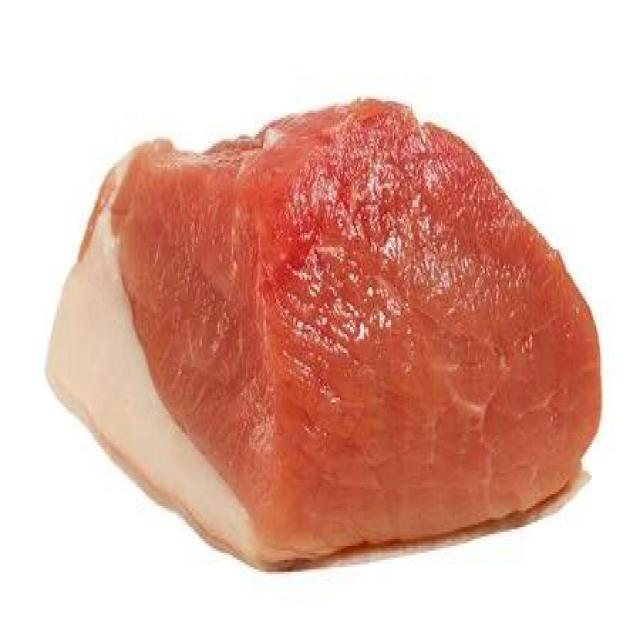pork: (57, 101, 602, 553)
